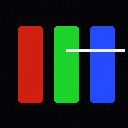3 line_h: (66, 49, 124, 51)
